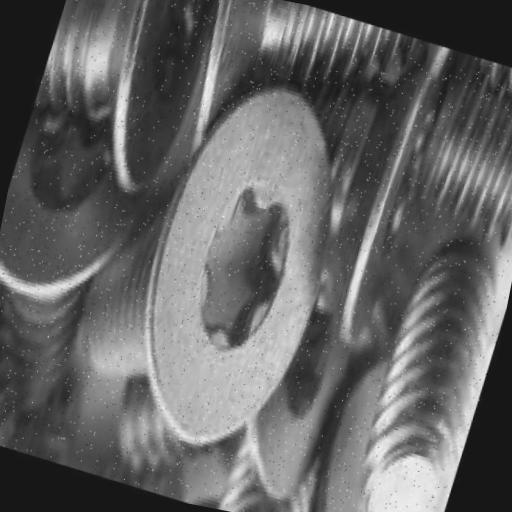Torx: (122, 62, 369, 462)
